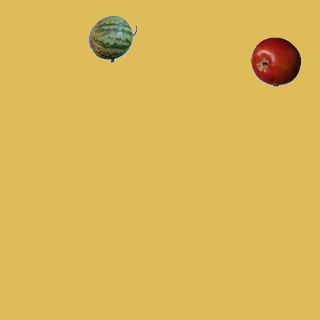Apple Braeburn: (250, 36, 300, 86)
Watermelon: (87, 13, 137, 63)
